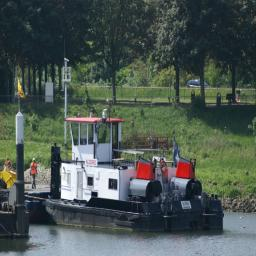tugboat: (45, 107, 228, 238)
